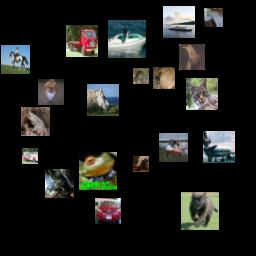airplane: (203, 131, 235, 163), (159, 133, 188, 162)
automobile: (95, 198, 121, 224)
bird: (179, 44, 205, 70), (133, 68, 149, 84)
cat: (186, 78, 218, 110), (45, 169, 74, 198), (133, 156, 149, 172)
dog: (181, 192, 219, 230), (38, 79, 64, 105), (153, 67, 175, 89)
frog: (79, 152, 117, 190), (21, 107, 50, 136)
ship: (108, 20, 146, 58), (163, 6, 195, 38)
truck: (66, 25, 98, 57), (22, 148, 38, 164)
